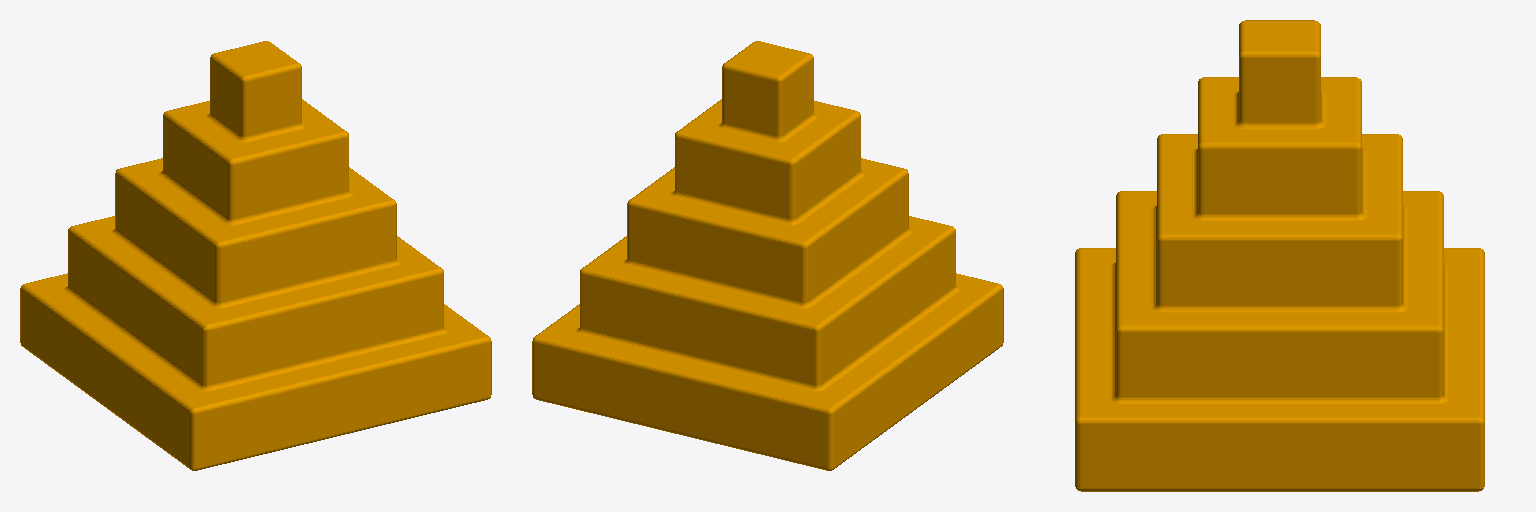
robot.urdf — object:
<?xml version="1.0"?>
<robot name="object">
  <link name="object">
    <visual>
      <origin xyz="0 0 0"/>
      <geometry>
        <mesh filename="block_pyr.obj" scale=".001 .001 .001"/>
      </geometry>
    </visual>
    <collision>
      <origin xyz="0 0 0"/>
      <geometry>
        <mesh filename="block_pyr.obj" scale=".001 .001 .001"/>
      </geometry>
    </collision>
    <inertial>
      <density value="567.0"/>
    </inertial>
  </link>
</robot>

--- Facts derived from the render (not from the file) ---
Views: 3 orthographic renders of the robot side by side, from view 1: azimuth 30°, elevation 25°; view 2: azimuth 150°, elevation 25°; view 3: azimuth 270°, elevation 25°.
Model object with 1 links and 0 joints (none), rooted at object, posed every joint at zero.
Visible links, largest first — view 1: object; view 2: object; view 3: object.
Boxes of the visible links, x1,y1,x2,y2 form: object: [20, 41, 491, 470]; object: [532, 41, 1003, 470]; object: [1075, 20, 1484, 491].
Size in the robot's own frame: 0.05 by 0.05 by 0.05 metres.
Meshes: 1 distinct files referenced, 1 mesh visuals loaded (1 OBJ).